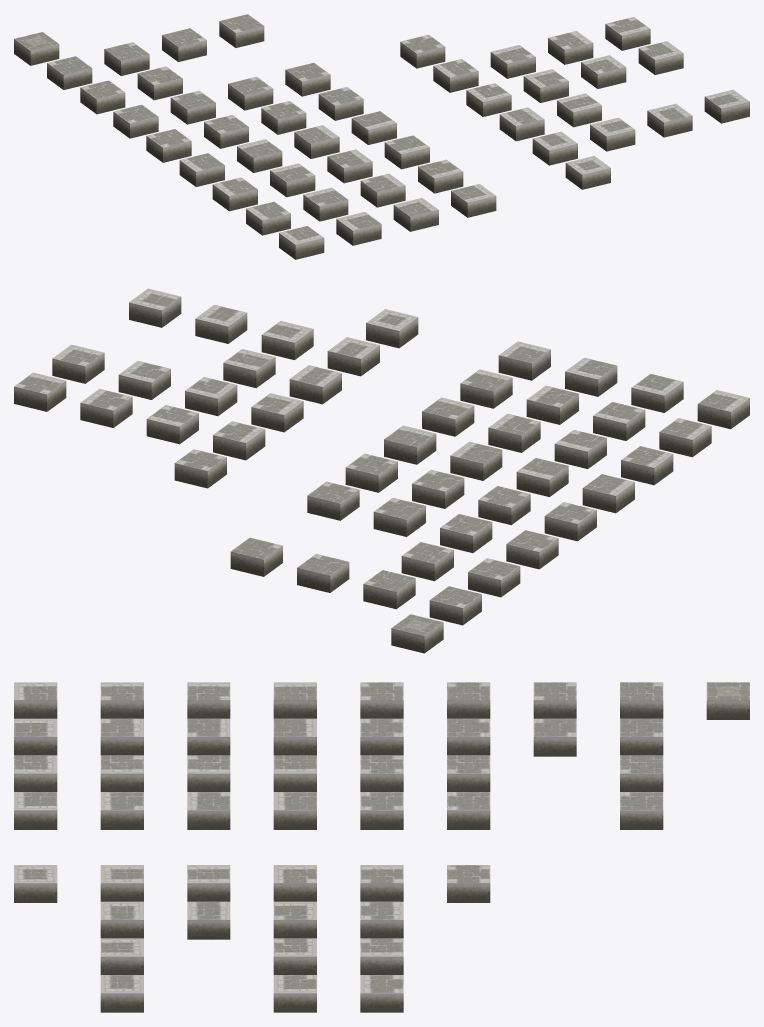
Rendered from Plaza.fbx.
3 renders of one model, top to bottom at view 1: azimuth 30°, elevation 25°; view 2: azimuth 150°, elevation 25°; view 3: azimuth 270°, elevation 25°, orthographic. The views are drawn at different scales.
Parts seen in each view (by area): view 1: Plaza-8, Plaza-29, Plaza-23, Plaza-16, Plaza-5, Plaza-46, Plaza-40, Plaza-39, Plaza-27, Plaza-25, Plaza-22, Plaza-19 (+35 smaller); view 2: Plaza-40, Plaza-35, Plaza-7, Plaza-6, Plaza-46, Plaza-45, Plaza-43, Plaza-4, Plaza-33, Plaza-3, Plaza-28, Plaza-27 (+35 smaller); view 3: Plaza-6, Plaza-41, Plaza-46, Plaza-45, Plaza-4, Plaza-39, Plaza-35, Plaza-33, Plaza-31, Plaza-27, Plaza-23, Plaza-19 (+35 smaller).
Boxes of the visible parts, bbox=[...] form: Plaza-8: bbox=[523, 69, 568, 102]; Plaza-29: bbox=[237, 139, 282, 172]; Plaza-23: bbox=[418, 159, 463, 193]; Plaza-16: bbox=[279, 226, 324, 259]; Plaza-5: bbox=[499, 107, 544, 141]; Plaza-46: bbox=[14, 32, 59, 65]; Plaza-40: bbox=[80, 80, 125, 114]; Plaza-39: bbox=[285, 62, 330, 96]; Plaza-27: bbox=[384, 135, 429, 169]; Plaza-25: bbox=[270, 163, 315, 197]; Plaza-22: bbox=[360, 173, 405, 207]; Plaza-19: bbox=[451, 184, 496, 217]; Plaza-40: bbox=[468, 558, 520, 597]; Plaza-35: bbox=[345, 453, 397, 492]; Plaza-7: bbox=[251, 393, 303, 432]; Plaza-6: bbox=[223, 349, 275, 388]; Plaza-46: bbox=[391, 614, 443, 653]; Plaza-45: bbox=[230, 537, 282, 576]; Plaza-43: bbox=[363, 570, 415, 609]; Plaza-4: bbox=[129, 288, 181, 327]; Plaza-33: bbox=[478, 486, 530, 525]; Plaza-3: bbox=[195, 304, 247, 343]; Plaza-28: bbox=[582, 474, 634, 513]; Plaza-27: bbox=[422, 397, 474, 436]; Plaza-6: bbox=[187, 901, 230, 939]; Plaza-41: bbox=[533, 718, 576, 756]; Plaza-46: bbox=[706, 682, 749, 719]; Plaza-45: bbox=[620, 792, 663, 829]; Plaza-4: bbox=[100, 975, 143, 1012]; Plaza-39: bbox=[447, 792, 490, 829]; Plaza-35: bbox=[360, 792, 403, 829]; Plaza-33: bbox=[360, 718, 403, 755]; Plaza-31: bbox=[273, 792, 316, 829]; Plaza-27: bbox=[187, 792, 230, 829]; Plaza-23: bbox=[100, 792, 143, 829]; Plaza-19: bbox=[14, 792, 57, 829].
Size of the model in its own units: 8500 by 250 by 8500.
Materials: 2 (2 with a texture image).
